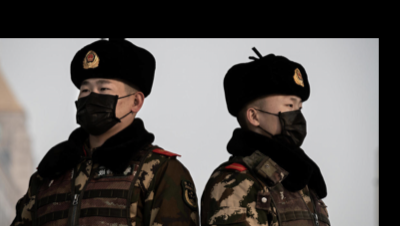with_mask: (74, 78, 131, 132), (257, 96, 305, 147)
